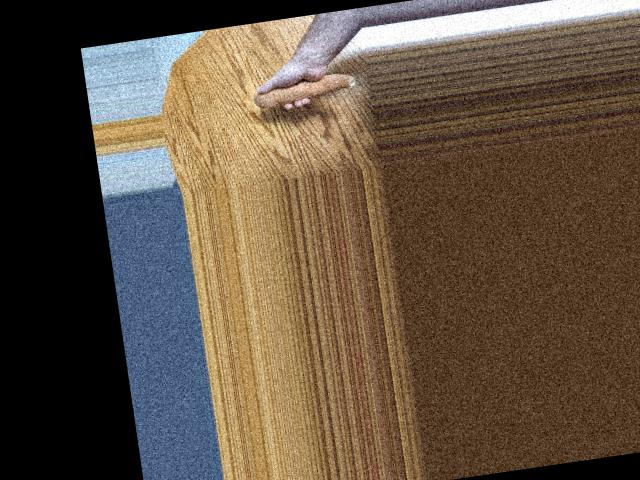sweet_potato: (250, 62, 360, 111)
